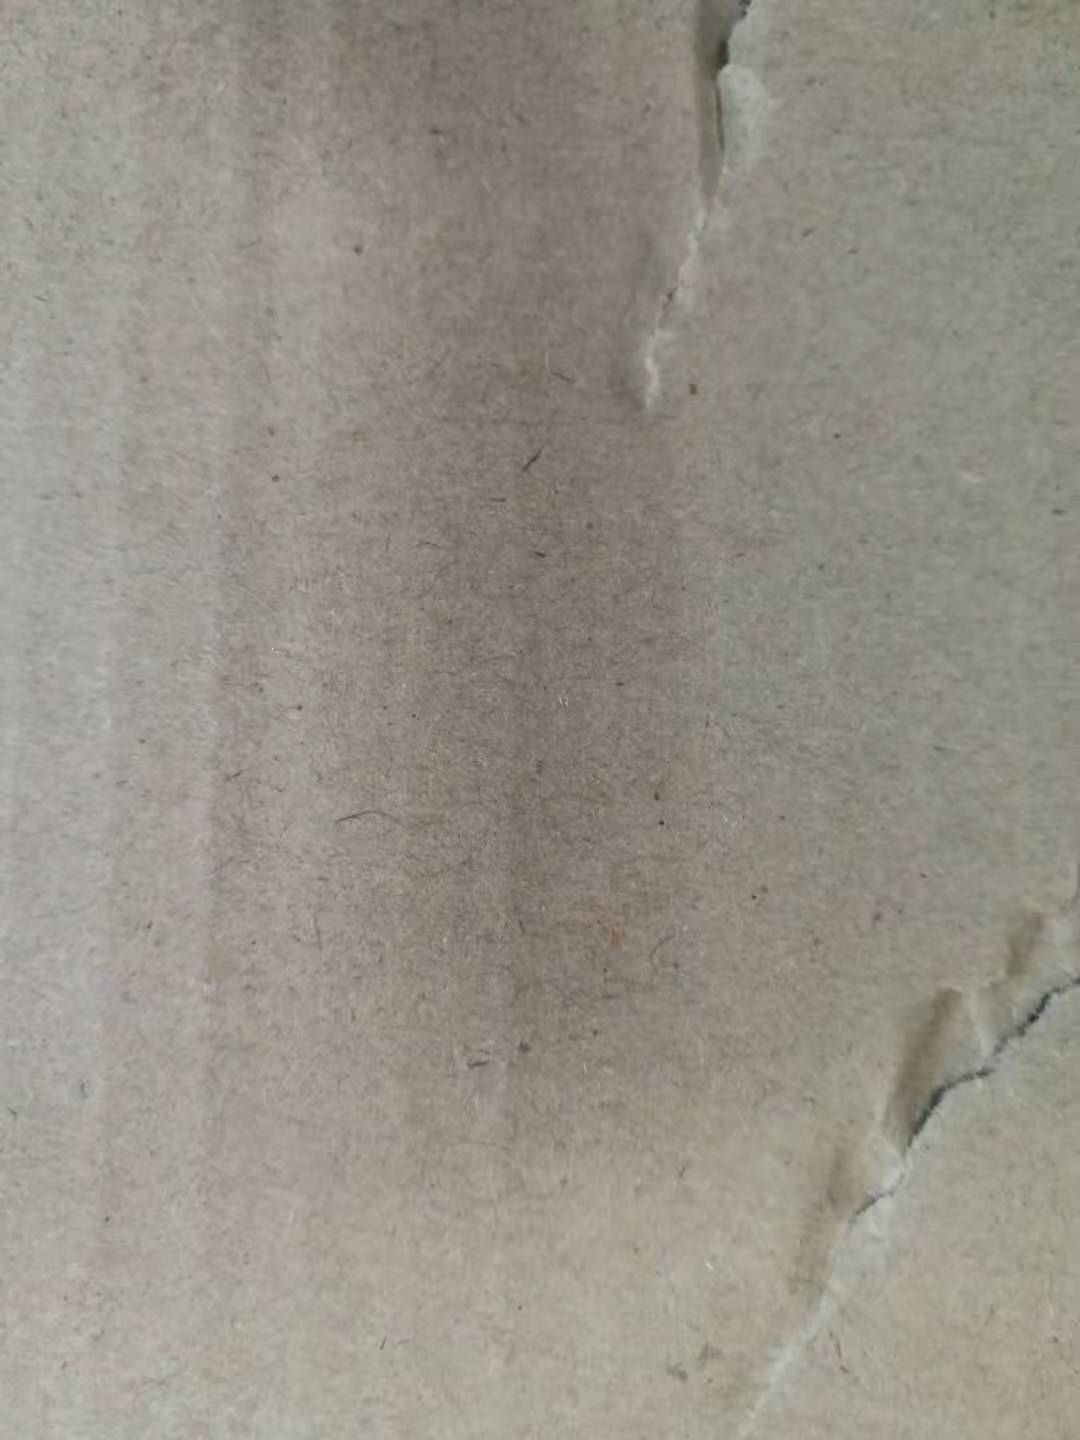defect: (665, 876, 1080, 1440), (588, 1, 809, 442)
